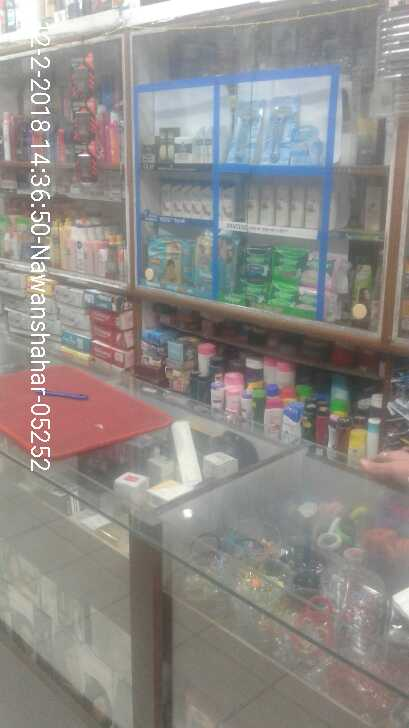venus: (231, 99, 261, 162), (268, 99, 289, 165), (289, 126, 321, 165)
